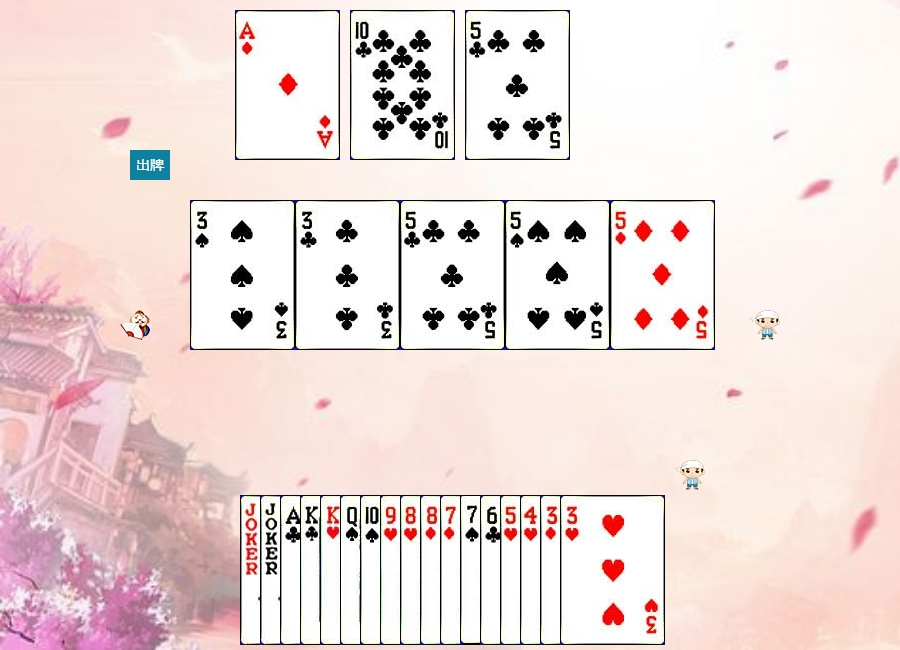10~2: (350, 10, 455, 160)
10~4: (360, 495, 465, 645)
12~4: (340, 495, 445, 645)
13~2: (300, 495, 405, 645)
13~3: (320, 495, 425, 645)
14~1: (235, 10, 340, 160)
14~2: (280, 495, 385, 645)
17~3: (260, 495, 365, 645)
18~4: (240, 495, 345, 645)
3~1: (540, 495, 645, 645)
3~2: (295, 200, 400, 350)
3~3: (560, 495, 665, 645)
3~4: (190, 200, 295, 350)
4~3: (520, 495, 625, 645)
5~1: (610, 200, 715, 350)
5~2: (465, 10, 570, 160), (400, 200, 505, 350)
5~3: (500, 495, 605, 645)
5~4: (505, 200, 610, 350)
6~2: (480, 495, 585, 645)
7~1: (440, 495, 545, 645)
7~4: (460, 495, 565, 645)
8~1: (420, 495, 525, 645)
8~3: (400, 495, 505, 645)
9~3: (380, 495, 485, 645)
